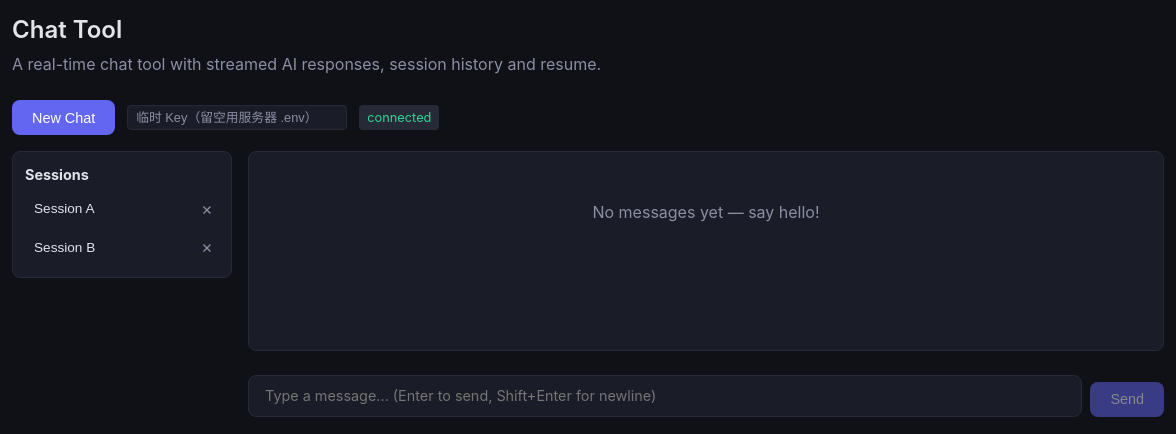
Scenario: ChatToolPlugin request ownership › drops stale history after deleting the active session
Click the button "Session A" at coordinates (108, 210), box [25, 194, 191, 226]
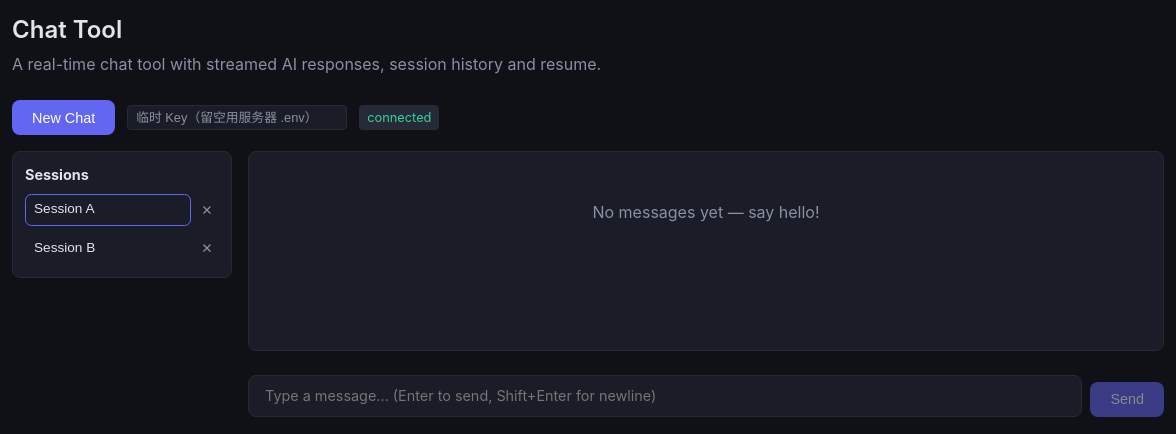
Click the button named "Delete session" at coordinates (207, 210), box [195, 194, 219, 226]
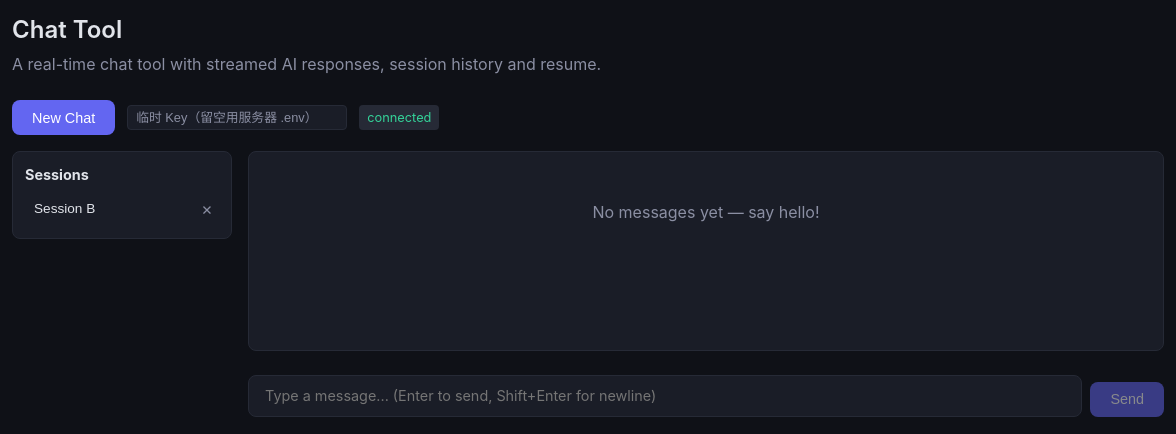
Now the button "Session A" is gone
